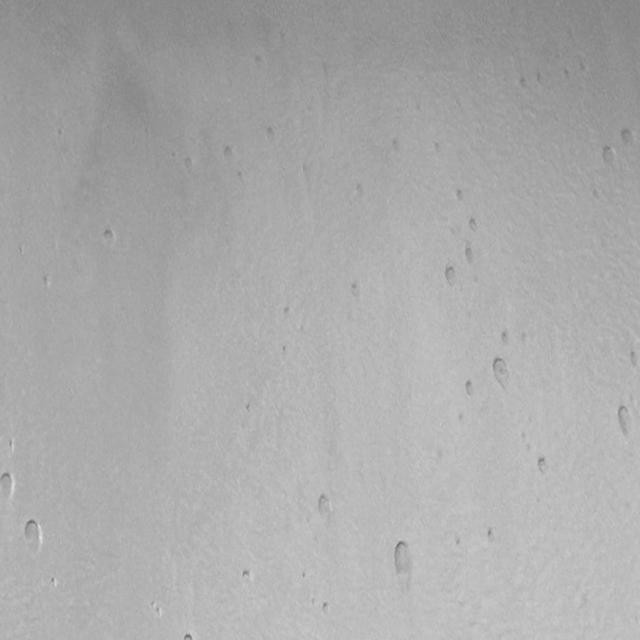pin holes: (388, 538, 415, 581), (613, 404, 639, 444), (20, 519, 45, 556), (487, 357, 511, 388), (312, 491, 333, 519), (441, 263, 461, 290), (618, 124, 637, 150), (0, 472, 16, 502), (262, 122, 281, 147), (601, 146, 619, 172), (348, 279, 367, 303), (352, 181, 371, 204), (100, 227, 118, 250), (536, 453, 554, 476), (278, 302, 296, 325), (462, 244, 479, 268), (465, 216, 483, 237), (278, 341, 295, 363), (515, 73, 533, 93), (463, 376, 479, 398), (222, 144, 238, 165), (452, 186, 468, 206), (182, 154, 197, 174), (41, 271, 56, 291), (390, 135, 405, 154), (234, 168, 249, 186), (240, 568, 254, 587), (500, 328, 513, 348), (627, 351, 639, 372), (432, 138, 446, 156), (152, 603, 166, 620), (485, 528, 498, 546), (6, 438, 19, 455), (517, 331, 530, 348), (455, 409, 467, 427), (242, 400, 254, 417), (320, 602, 332, 618), (49, 575, 60, 591), (452, 537, 464, 551), (167, 150, 179, 164), (183, 629, 199, 639), (300, 571, 312, 582)
